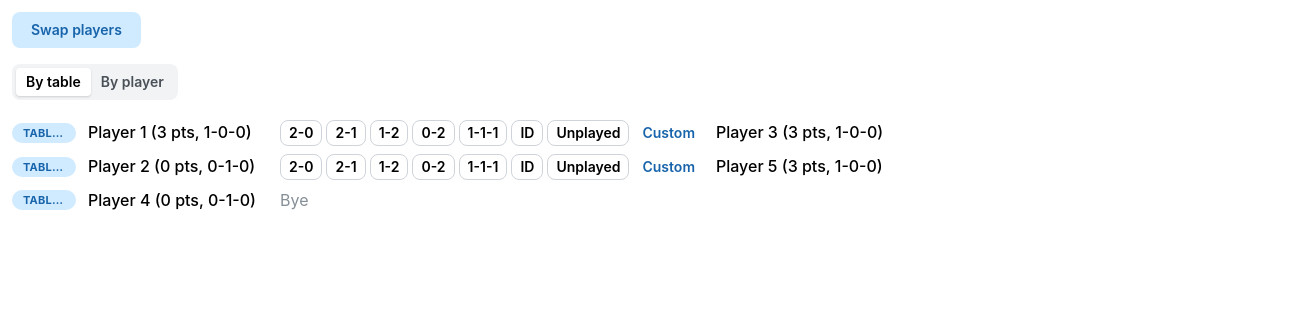
Test case: SwapPlayers › shows a repeated bye after a swap moves the bye
Click the button "Swap players".
click(76, 30)  # box [12, 12, 141, 48]
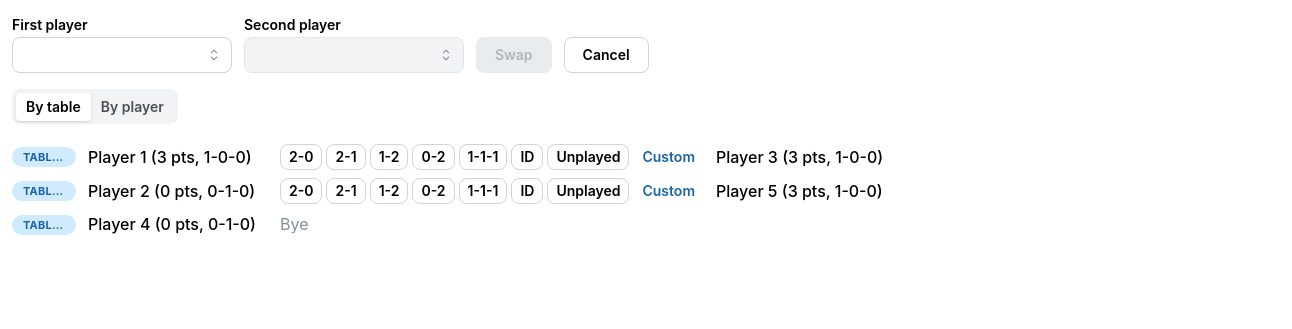
Click the dropdown labelled "First player".
click(122, 55)  # box [12, 37, 232, 73]
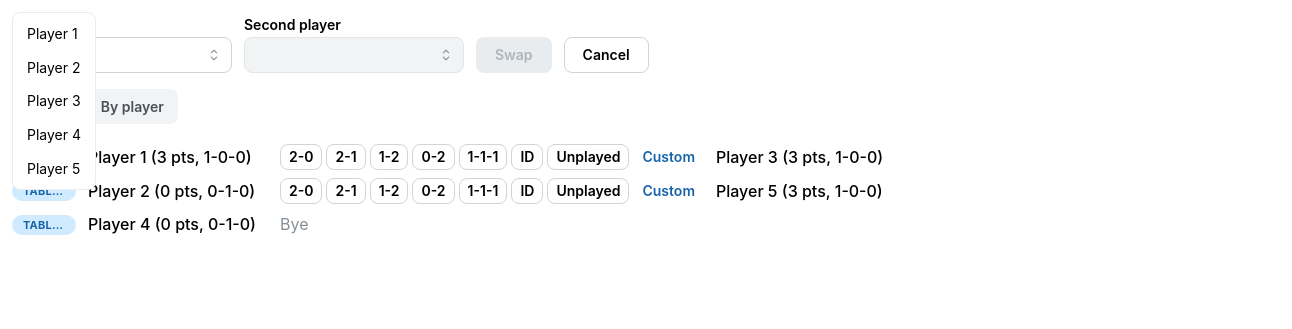
Click the option "Player 4".
click(54, 135)  # box [27, 126, 81, 143]
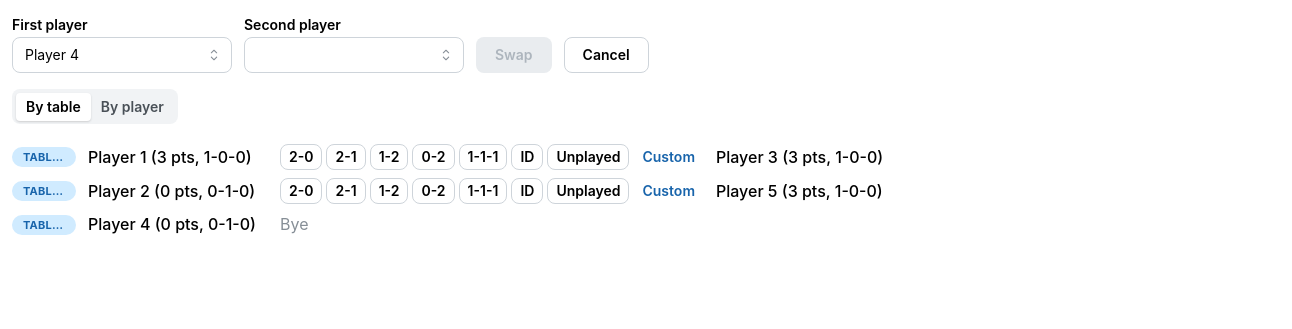
Click the dropdown labelled "Second player".
click(354, 55)  # box [244, 37, 464, 73]
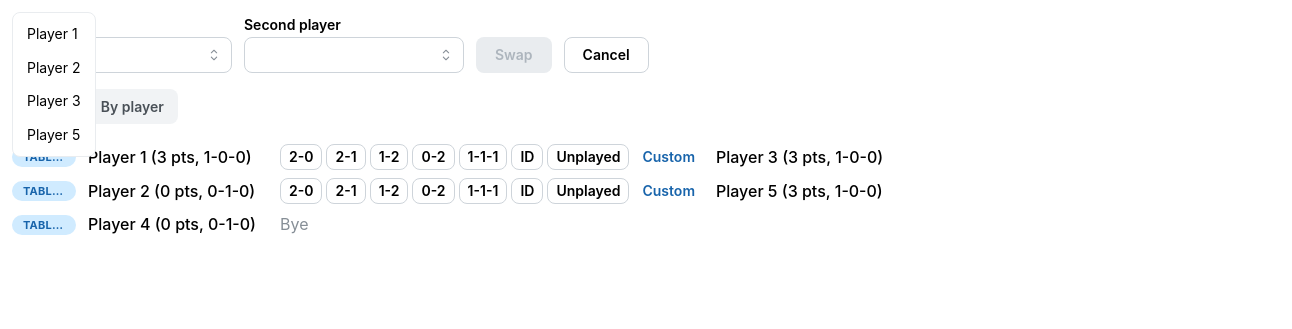
Click the option "Player 5".
click(54, 135)  # box [27, 126, 80, 143]
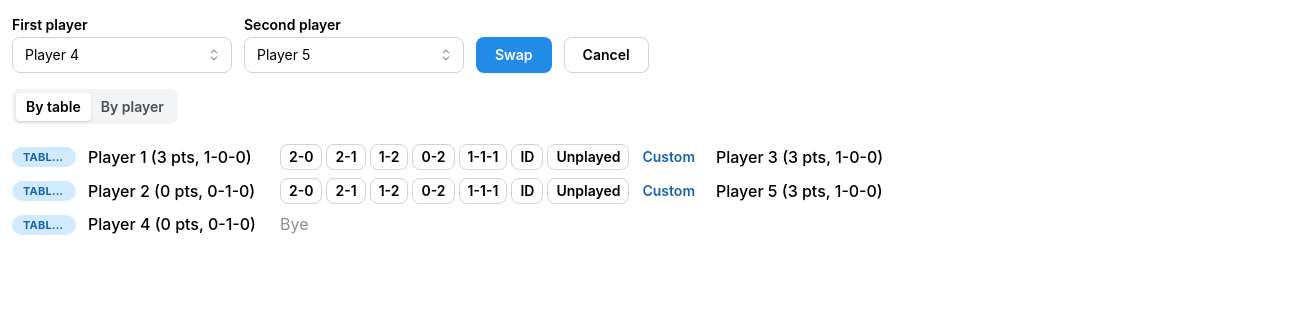
Click the button "Swap".
click(514, 55)  # box [476, 37, 552, 73]
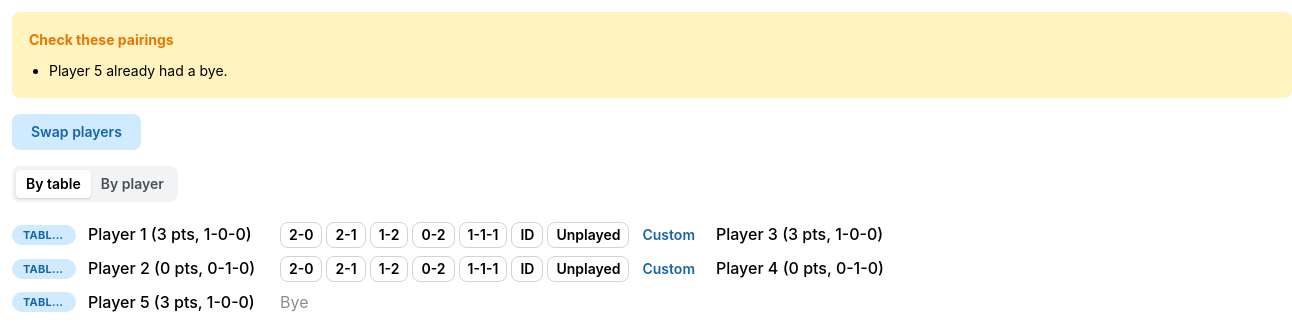
expect the text "Player 5 already had a bye." is shown: met, box [49, 61, 228, 81]
